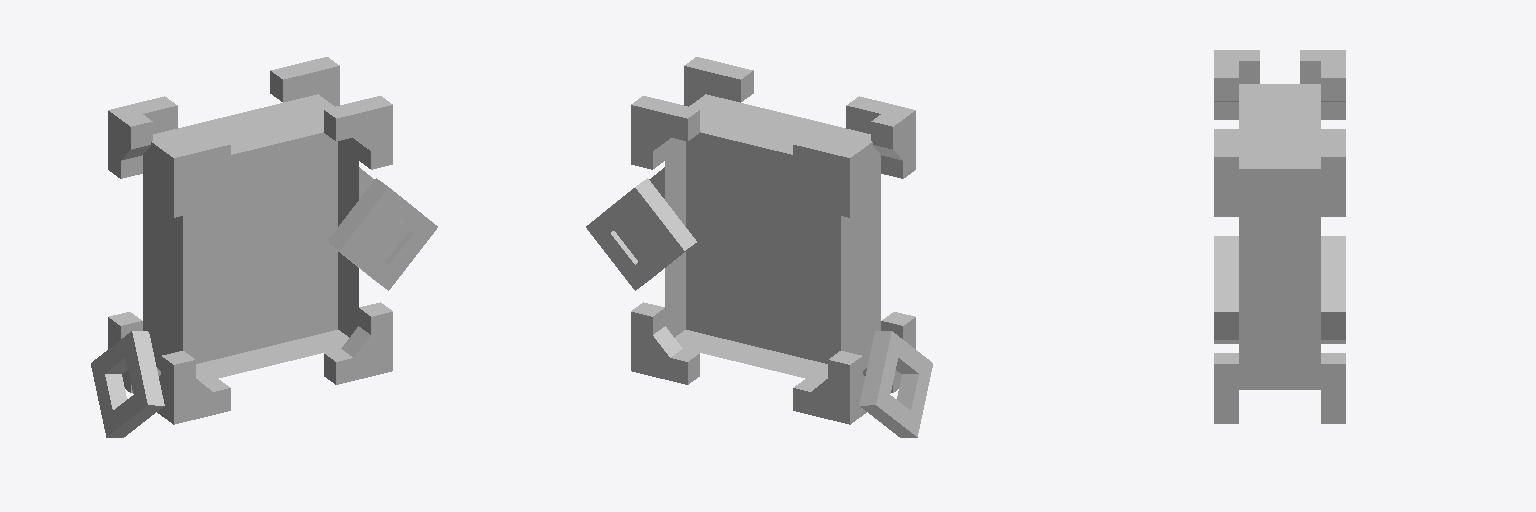
File: rotebook_closed.obj
The picture shows the model from 3 angles: view 1: azimuth 30°, elevation 25°; view 2: azimuth 150°, elevation 25°; view 3: azimuth 270°, elevation 25°; orthographic projection.
Parts seen in each view (by area): view 1: PAGES_BACK_CLOSED_Cube.008, PAGES_FRONT_CLOSED_Cube.002, COVERDECO_FRONT_VAR3_CLOSED_Cube.036, SPINEDECO_VAR3_CLOSED_Cube.038, COVERDECO_BACK_VAR3_CLOSED_Cube.045; view 2: PAGES_BACK_CLOSED_Cube.008, COVERDECO_BACK_VAR3_CLOSED_Cube.045, PAGES_FRONT_CLOSED_Cube.002, SPINEDECO_VAR3_CLOSED_Cube.038, COVERDECO_FRONT_VAR3_CLOSED_Cube.036; view 3: PAGES_BACK_CLOSED_Cube.008, PAGES_FRONT_CLOSED_Cube.002, COVERDECO_FRONT_VAR3_CLOSED_Cube.036, COVERDECO_BACK_VAR3_CLOSED_Cube.045, SPINEDECO_VAR3_CLOSED_Cube.038.
Part boxes in pixels (x1,y1,x2,y2): PAGES_BACK_CLOSED_Cube.008: (143, 94, 337, 370); PAGES_FRONT_CLOSED_Cube.002: (163, 113, 358, 382); COVERDECO_FRONT_VAR3_CLOSED_Cube.036: (162, 96, 437, 424); SPINEDECO_VAR3_CLOSED_Cube.038: (91, 105, 195, 437); COVERDECO_BACK_VAR3_CLOSED_Cube.045: (109, 57, 374, 375); PAGES_BACK_CLOSED_Cube.008: (665, 113, 860, 382); COVERDECO_BACK_VAR3_CLOSED_Cube.045: (586, 96, 861, 424); PAGES_FRONT_CLOSED_Cube.002: (686, 94, 880, 370); SPINEDECO_VAR3_CLOSED_Cube.038: (828, 105, 932, 437); COVERDECO_FRONT_VAR3_CLOSED_Cube.036: (649, 57, 914, 375); PAGES_BACK_CLOSED_Cube.008: (1280, 84, 1320, 389); PAGES_FRONT_CLOSED_Cube.002: (1239, 84, 1279, 389); COVERDECO_FRONT_VAR3_CLOSED_Cube.036: (1214, 50, 1238, 423); COVERDECO_BACK_VAR3_CLOSED_Cube.045: (1321, 50, 1345, 423); SPINEDECO_VAR3_CLOSED_Cube.038: (1214, 50, 1345, 119).
Size of the model in its own units: 1.07 by 1.02 by 0.4062.